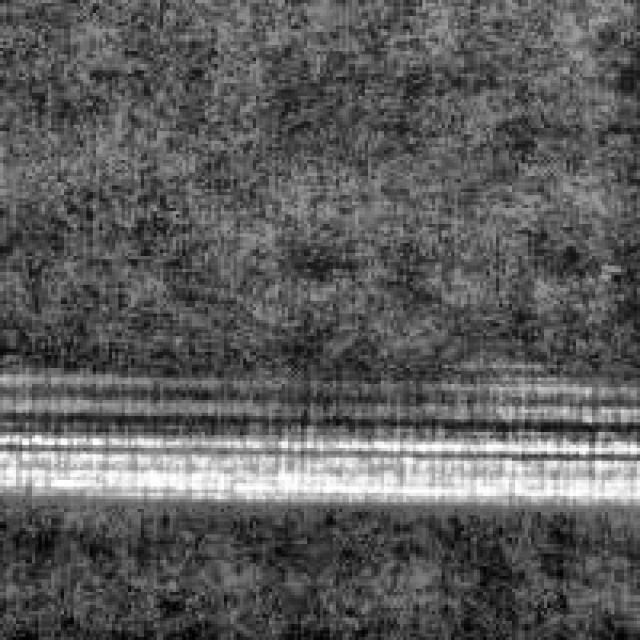Inclusion: (3, 410, 634, 500)
